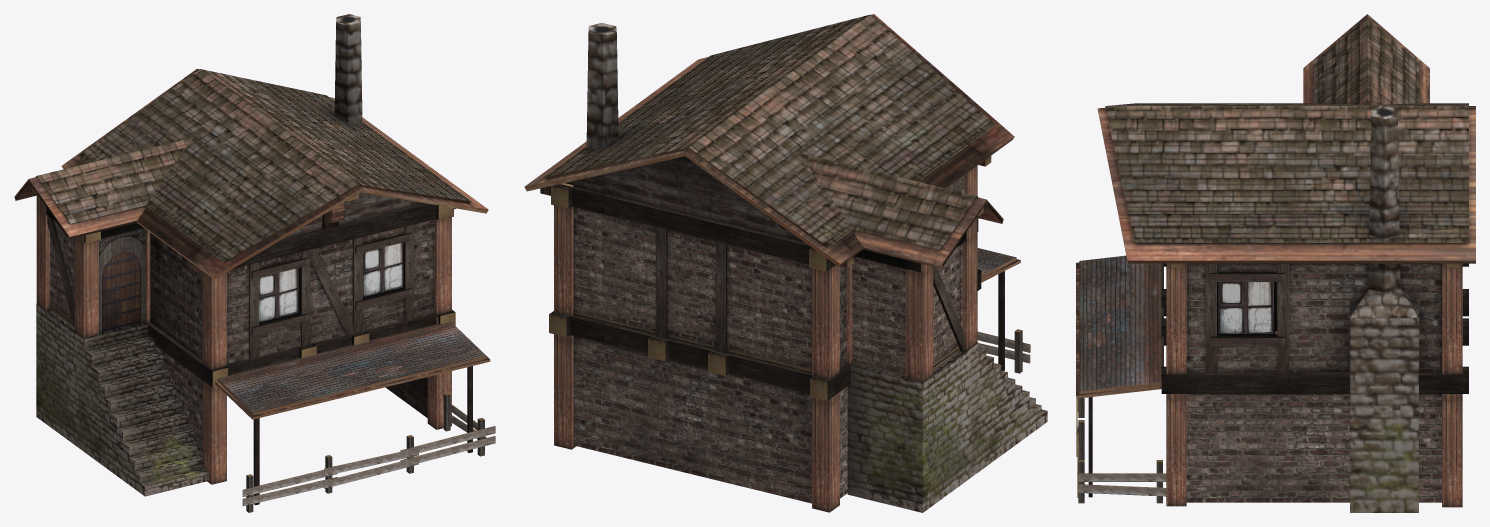
3 renders of one model, left to right at view 1: azimuth 30°, elevation 25°; view 2: azimuth 150°, elevation 25°; view 3: azimuth 270°, elevation 25°, orthographic. The views are drawn at different scales.
Visible parts, largest first — view 1: blacksmith_main.002; view 2: blacksmith_main.002; view 3: blacksmith_main.002.
Part boxes in pixels (x1,y1,x2,y2): blacksmith_main.002: [14, 14, 495, 512]; blacksmith_main.002: [524, 14, 1047, 512]; blacksmith_main.002: [1076, 14, 1475, 512].
Size of the model in its own units: 494 by 451 by 419.
